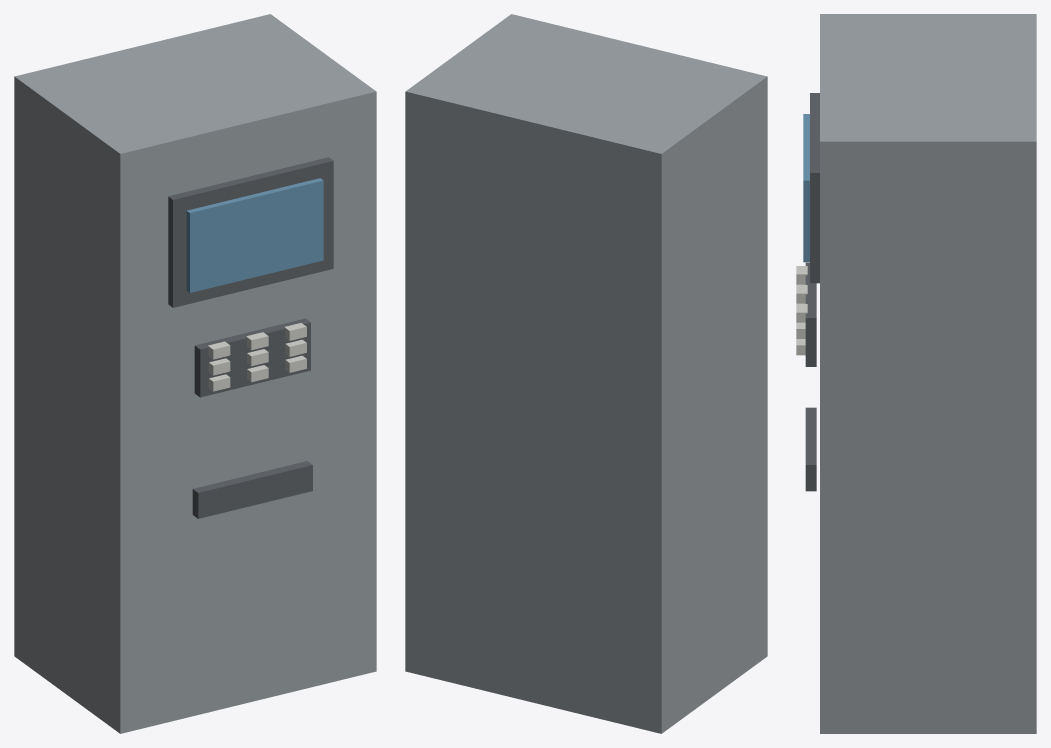
Rendered from atm.glb.
3 renders of one model, left to right at view 1: azimuth 30°, elevation 25°; view 2: azimuth 150°, elevation 25°; view 3: azimuth 270°, elevation 25°, orthographic. The views are drawn at different scales.
Parts seen in each view (by area): view 1: body_1, panel_3, panel_2, panel_14, panel_4; view 2: body_1; view 3: body_1, panel_2, panel_4, panel_3, panel_14.
Part boxes in pixels (x1,y1,x2,y2): body_1: [14, 14, 376, 733]; panel_3: [186, 178, 323, 292]; panel_2: [168, 157, 333, 307]; panel_14: [192, 461, 312, 518]; panel_4: [194, 318, 310, 397]; body_1: [405, 14, 767, 733]; body_1: [820, 14, 1036, 733]; panel_2: [810, 93, 819, 283]; panel_4: [805, 262, 816, 366]; panel_3: [803, 114, 809, 262]; panel_14: [805, 407, 816, 491].
Bounding box in the file's own units: 0.67 × 1.45 × 0.5325.
